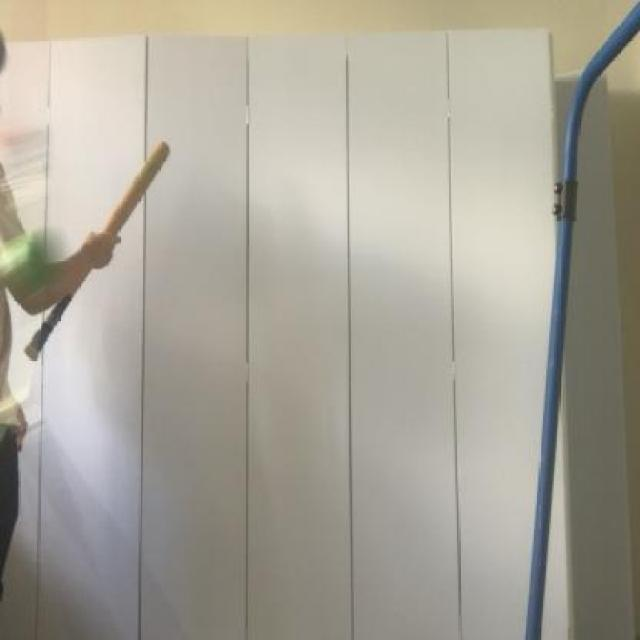baseball: (2, 216, 75, 286)
